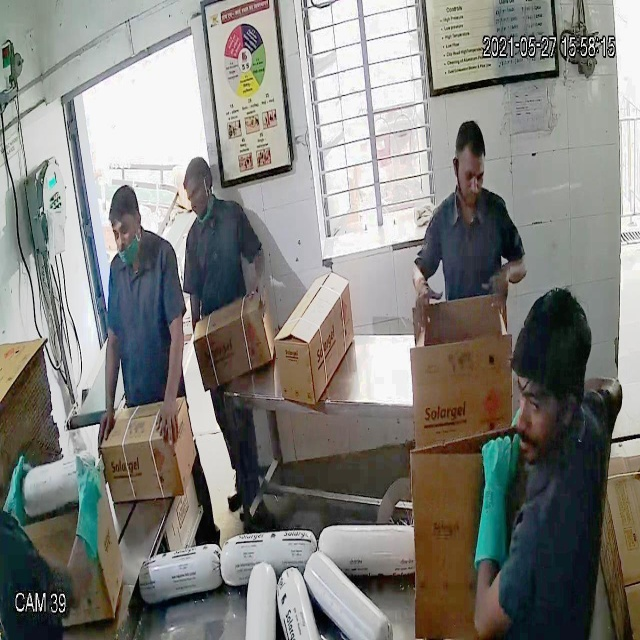Sin_gafas: (446, 161, 492, 193), (109, 219, 144, 249)
